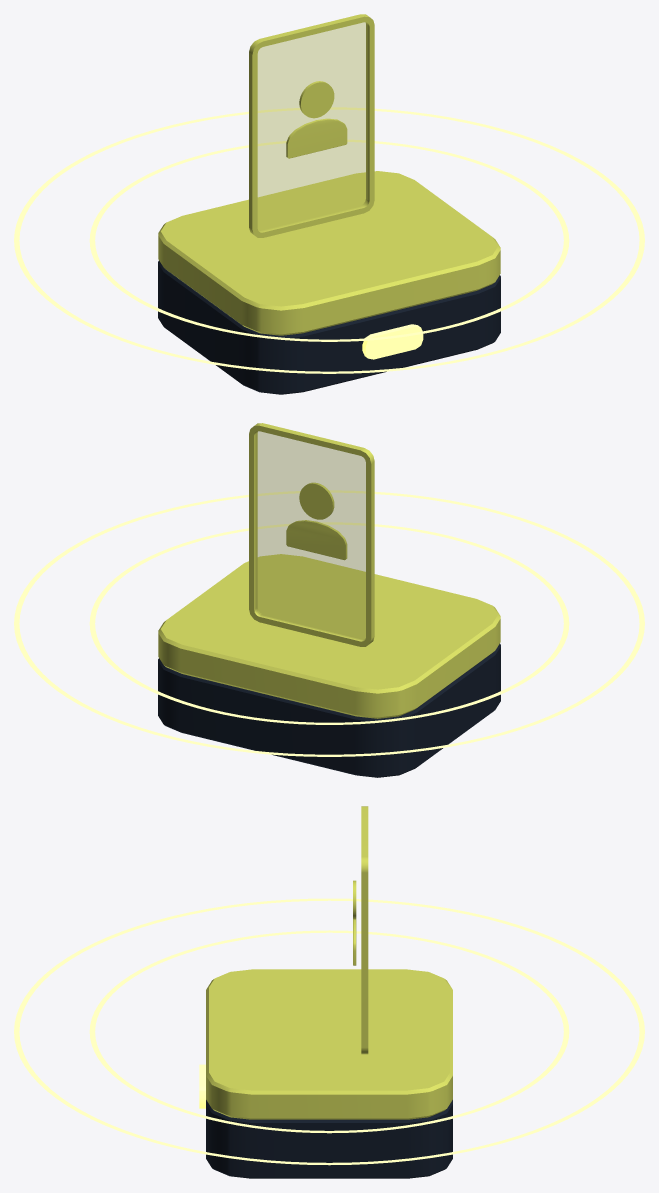
File: pn_ico_puerta.glb
3 views of the same model, one above another, from view 1: azimuth 30°, elevation 25°; view 2: azimuth 150°, elevation 25°; view 3: azimuth 270°, elevation 25° (orthographic).
Parts seen in each view (by area): view 1: pn_ico_puerta; view 2: pn_ico_puerta; view 3: pn_ico_puerta.
Boxes of the visible parts, x1,y1,x2,y2 form: pn_ico_puerta: (14, 14, 644, 394); pn_ico_puerta: (14, 423, 644, 777); pn_ico_puerta: (14, 806, 644, 1178).
Size of the model in its own units: 0.58 by 0.2898 by 0.58.
